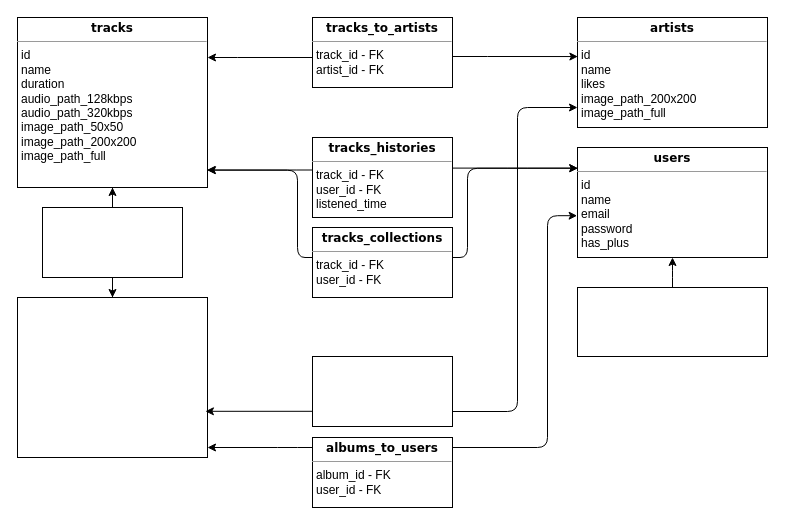
The diagram is 785 pixels wide and 525 high, and some of its shapes have lost their labels. Here are the shapes that lost their labels. From the top down, the centre of each, then its label:
point (112, 242): albums_to_tracks album_id - FK track_id - FK
point (672, 321): sessions user_id - FK token
point (112, 377): albums id name description image_path_50x50 image_path_200x200 image_path_full
point (382, 391): albums_to_artists album_id - FK artist_id - FK
